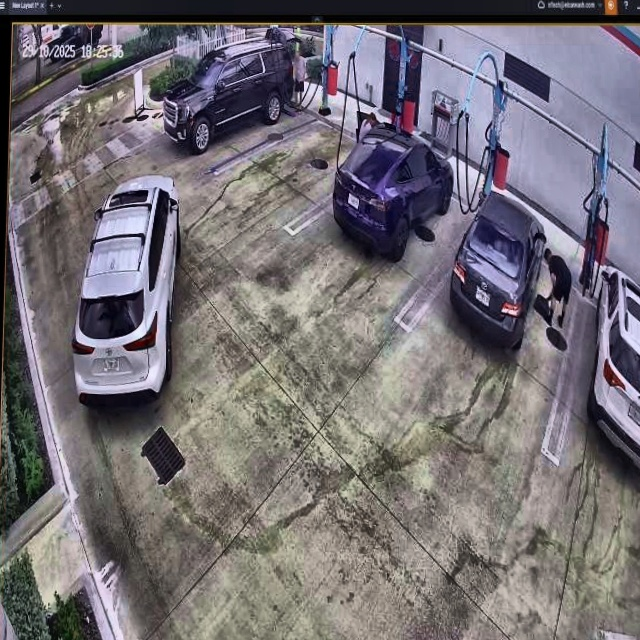Car: (75, 172, 180, 399), (332, 120, 456, 260), (448, 188, 550, 349)
